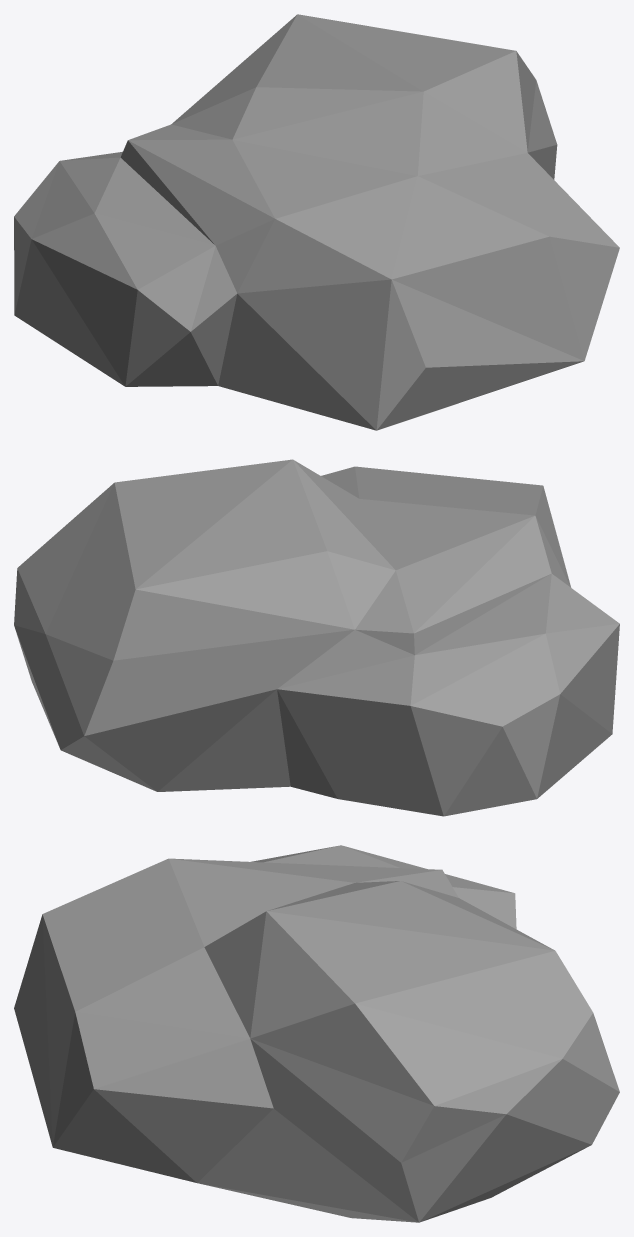
File: rock0.glb
3 renders of one model, top to bottom at view 1: azimuth 30°, elevation 25°; view 2: azimuth 150°, elevation 25°; view 3: azimuth 270°, elevation 25°, orthographic. The views are drawn at different scales.
Parts seen in each view (by area): view 1: rock1.natural.light; view 2: rock1.natural.light; view 3: rock1.natural.light.
Boxes of the visible parts, x1,y1,x2,y2 form: rock1.natural.light: [14, 14, 619, 430]; rock1.natural.light: [14, 459, 619, 816]; rock1.natural.light: [14, 845, 619, 1222].
Size of the model in its own units: 3.01 by 1.28 by 2.94.
Materials: 1 (1 with a texture image).
